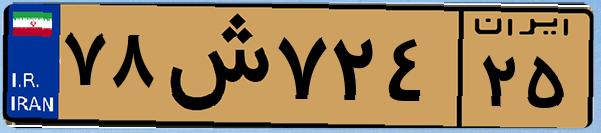2: (330, 28, 385, 110), (475, 38, 525, 113)
4: (385, 28, 445, 110)
5: (525, 38, 570, 115)
7: (270, 28, 330, 110), (57, 26, 110, 100)
8: (110, 28, 158, 98)
ش: (158, 12, 270, 120)
